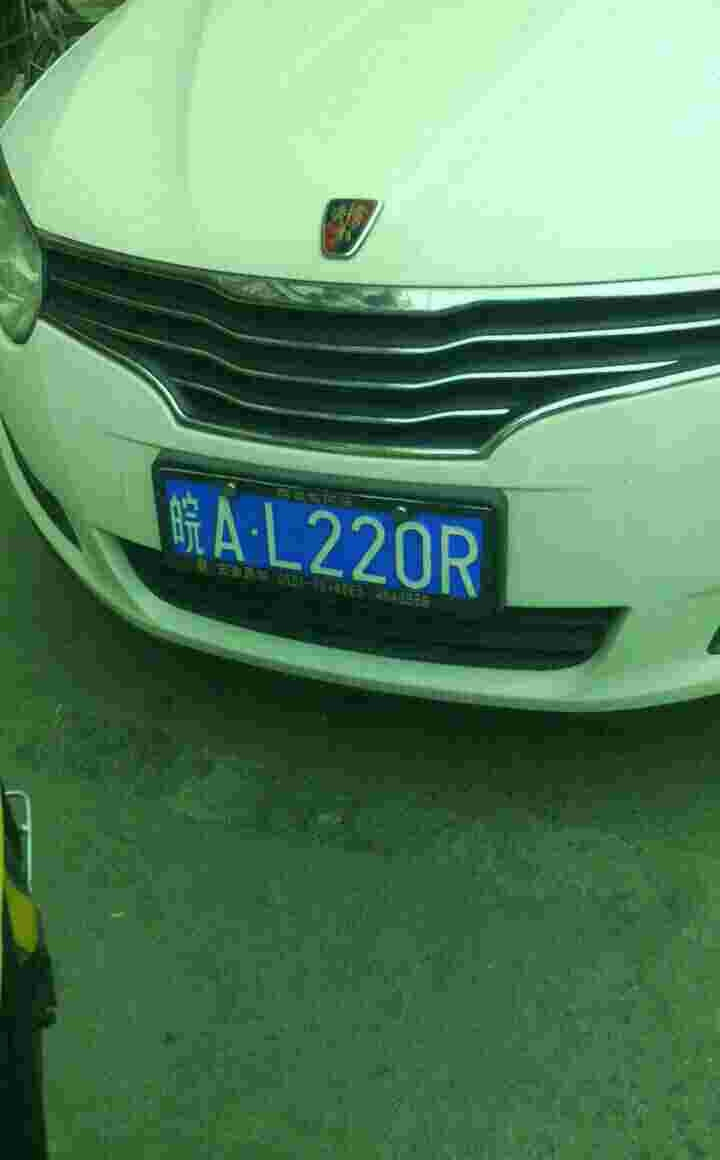license_plate: (164, 477, 491, 603)
